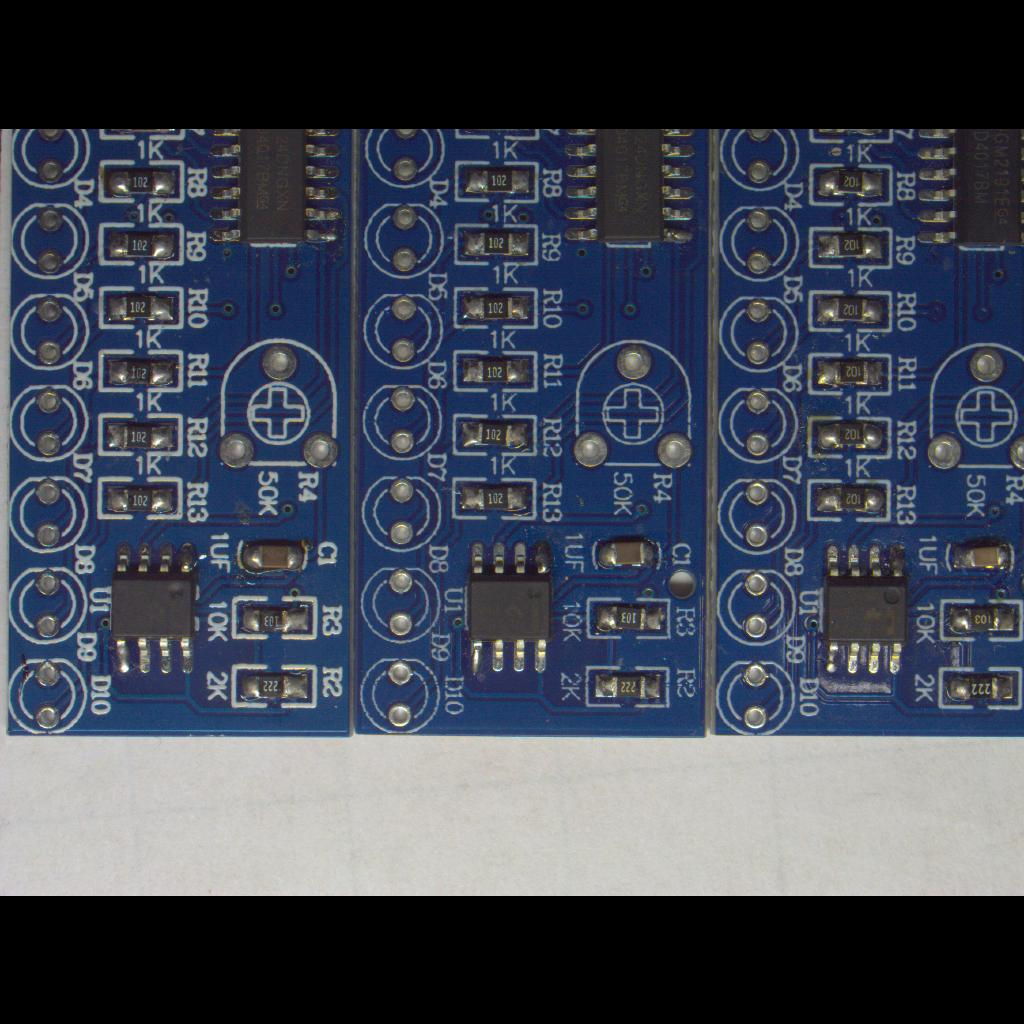OK: (554, 128, 704, 250), (201, 128, 347, 252), (908, 128, 1024, 254), (814, 535, 912, 681), (460, 529, 554, 681), (105, 537, 201, 683), (96, 156, 190, 208), (228, 660, 322, 712), (96, 219, 188, 271), (804, 224, 898, 274), (227, 592, 321, 642), (803, 476, 895, 526), (448, 220, 542, 268), (450, 157, 544, 205), (450, 410, 540, 460), (95, 473, 185, 523), (934, 664, 1024, 714), (96, 411, 188, 459), (804, 414, 896, 462), (584, 662, 672, 712), (806, 286, 896, 334), (805, 160, 895, 208), (583, 594, 673, 642), (450, 348, 542, 394), (452, 284, 540, 332), (806, 349, 894, 397), (450, 474, 538, 522), (936, 596, 1024, 644), (96, 284, 186, 330), (96, 348, 186, 394), (232, 533, 316, 577), (942, 534, 1022, 578), (588, 534, 666, 574), (810, 128, 892, 144)
